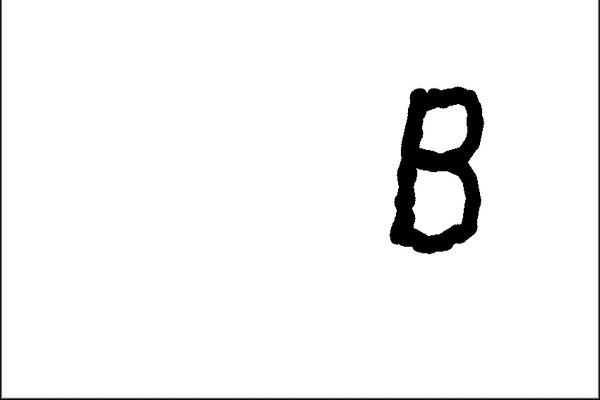B: (380, 77, 488, 260)
